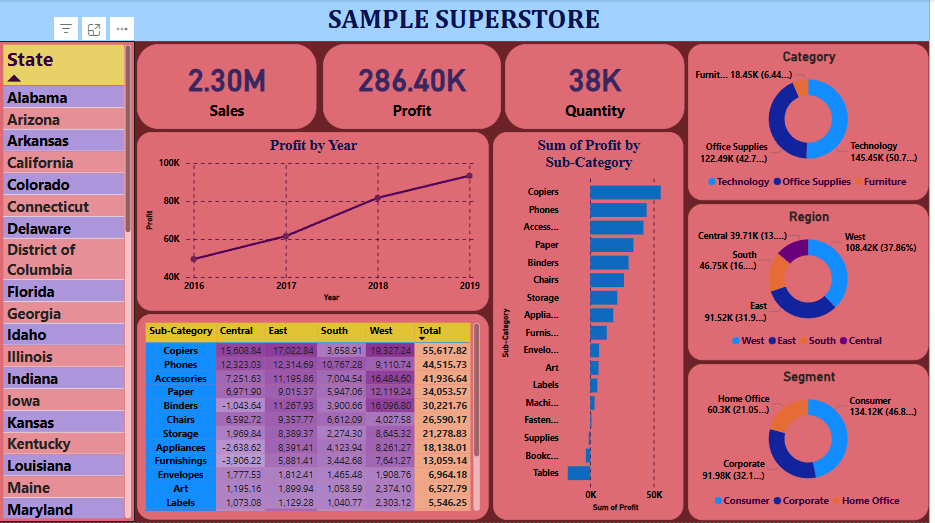

This screenshot's page, from the dashboard's own definition file:
{"tool":"powerbi","page":{"name":"Dashboard 2","canvas":[1280,720],"ordinal":3},"visuals":[{"type":"textbox","box":[0,0,1279.7,58.4],"z":0},{"type":"tableEx","fields":{"Values":["Orders.State"]},"box":[0,58.4,187.5,661.6],"z":1000},{"type":"card","fields":{"Values":["Sum(Orders.Sales)"]},"box":[190.2,62.5,247.2,116.8],"z":2000},{"type":"card","fields":{"Values":["Sum(Orders.Profit)"]},"box":[445.6,62.5,244.5,116.8],"z":3000},{"type":"card","fields":{"Values":["Sum(Orders.Quantity)"]},"box":[696.9,62.5,247.2,116.8],"z":4000},{"type":"donutChart","title":"Category","fields":{"Category":["Orders.Category"],"Y":["Sum(Orders.Profit)"]},"box":[948.2,62.5,331.5,215],"z":5000},{"type":"donutChart","title":"Region","fields":{"Category":["Orders.Region"],"Y":["Sum(Orders.Profit)"]},"box":[948.2,282.6,331.5,214.6],"z":6000},{"type":"donutChart","title":"Segment","fields":{"Category":["Orders.Segment"],"Y":["Sum(Orders.Profit)"]},"box":[948.2,502.6,331.5,214.6],"z":7000},{"type":"pivotTable","fields":{"Rows":["Orders.Sub-Category"],"Columns":["Orders.Region"],"Values":["Sum(Orders.Profit)"]},"box":[190.2,433.4,483.6,282.6],"z":8000},{"type":"lineChart","title":"Profit by Year","fields":{"Category":["Orders.Order Date.Variation.Date Hierarchy.Year","Orders.Order Date.Variation.Date Hierarchy.Quarter","Orders.Order Date.Variation.Date Hierarchy.Month","Orders.Order Date.Variation.Date Hierarchy.Day"],"Y":["Sum(Orders.Profit)"]},"box":[190.2,183.4,483.6,245.9],"z":9000},{"type":"clusteredBarChart","fields":{"Category":["Orders.Sub-Category"],"Y":["Sum(Orders.Profit)"]},"box":[679.9,183.1,261.5,534],"z":10000}]}

Visuals, with their boxes on the page's 1280x720 design canvas (x1, y1, x2, y2). These are canvas units, not pixel positions in the 935x523 screenshot, which may show the page scaled, cropped or inside an application window:
textbox: (left=0, top=0, right=1280, bottom=58)
tableEx - Orders.State: (left=0, top=58, right=188, bottom=720)
card - Sum(Orders.Sales): (left=190, top=62, right=437, bottom=179)
card - Sum(Orders.Profit): (left=446, top=62, right=690, bottom=179)
card - Sum(Orders.Quantity): (left=697, top=62, right=944, bottom=179)
"Category" donutChart: (left=948, top=62, right=1280, bottom=278)
"Region" donutChart: (left=948, top=283, right=1280, bottom=497)
"Segment" donutChart: (left=948, top=503, right=1280, bottom=717)
pivotTable - Orders.Sub-Category x Orders.Region: (left=190, top=433, right=674, bottom=716)
"Profit by Year" lineChart: (left=190, top=183, right=674, bottom=429)
clusteredBarChart - Orders.Sub-Category x Sum(Orders.Profit): (left=680, top=183, right=941, bottom=717)
